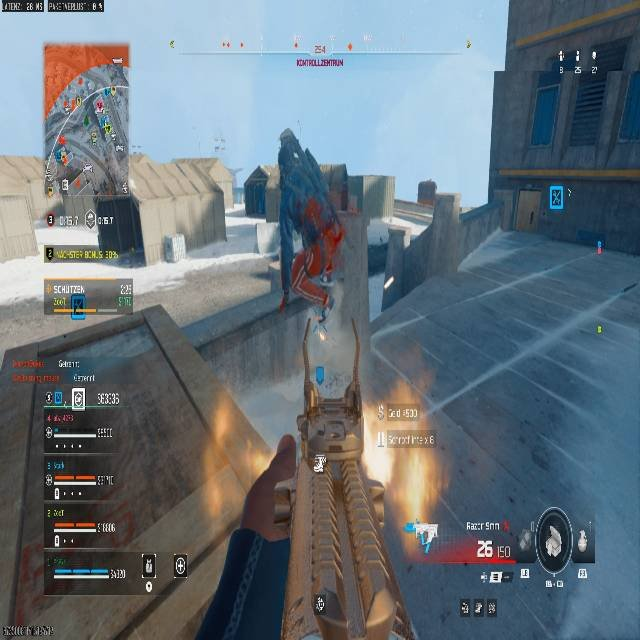head: (320, 218, 343, 248)
